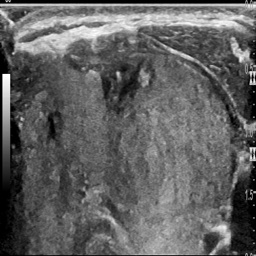mass: (97, 44, 155, 112)
